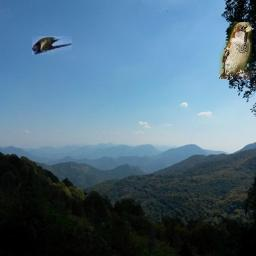Sparrow: (219, 22, 252, 79)
Swallow: (32, 36, 72, 55)
